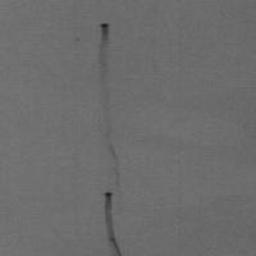Inclusion: (99, 22, 124, 189), (102, 191, 123, 256)
